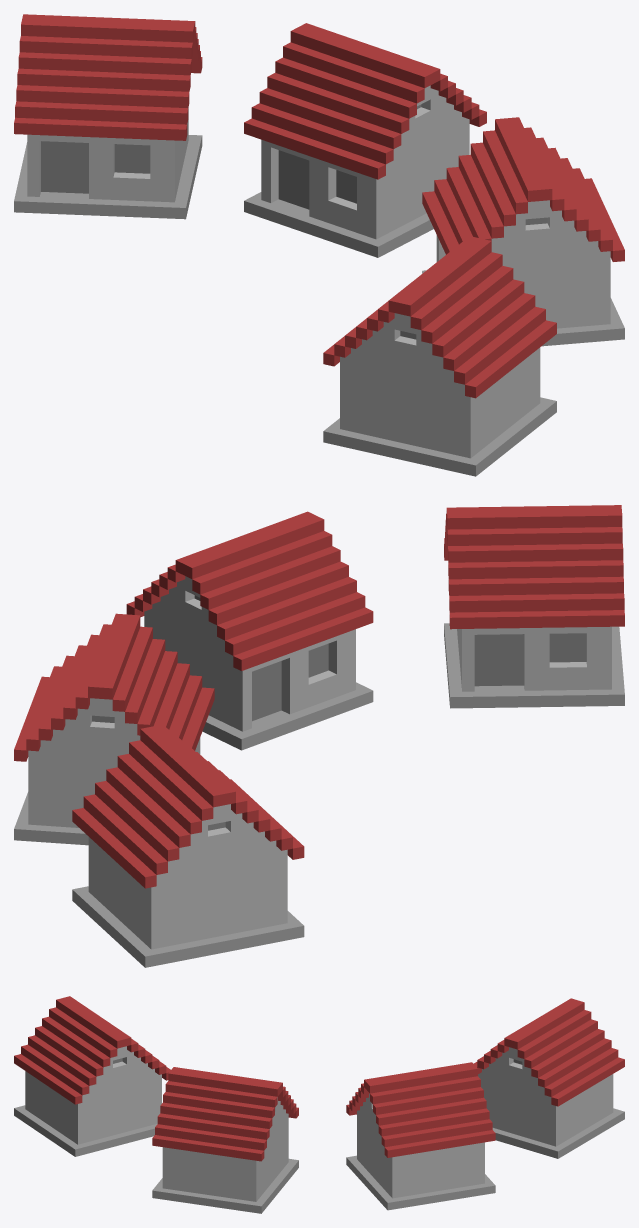
Rendered from neighborhood.glb.
3 views of the same model, one above another, from view 1: azimuth 30°, elevation 25°; view 2: azimuth 150°, elevation 25°; view 3: azimuth 270°, elevation 25° (orthographic). The views are drawn at different scales.
Visible parts, largest first — view 1: 13; view 2: 13; view 3: 13.
Part boxes in pixels (<box>): 13: <box>14,14,624,476</box>; 13: <box>14,505,624,967</box>; 13: <box>14,996,624,1213</box>.
Size of the model in its own units: 8.9 by 3.5 by 18.5.
